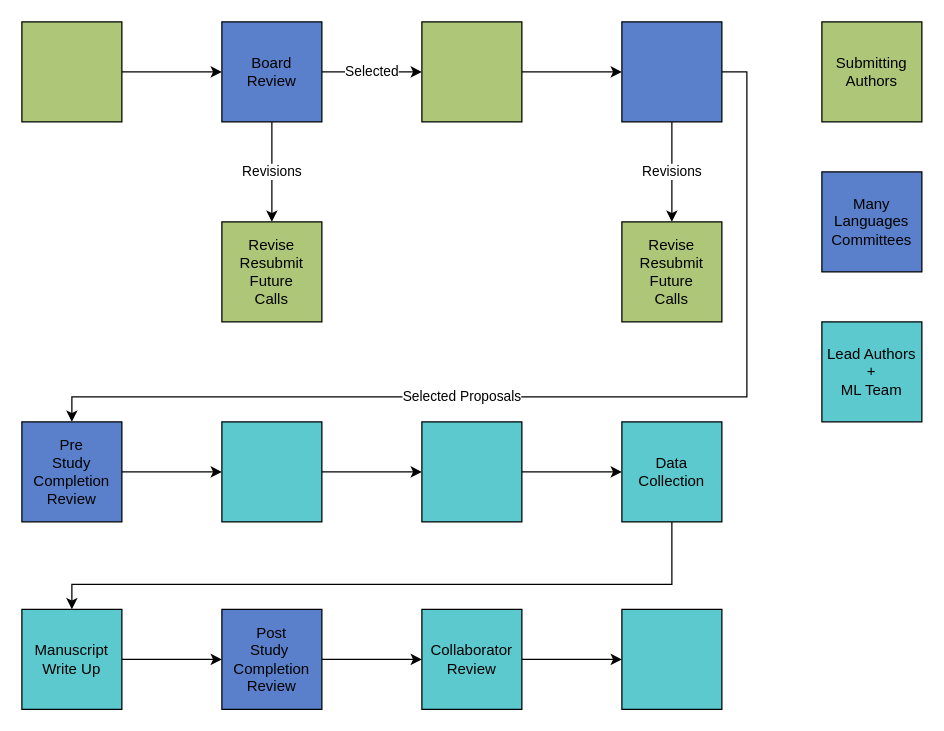
The diagram is 944 pixels wide and 731 high, and some of its shapes have lost their labels. Here are the shapes that lost their labels. From the top down, the centre of each, then its label:
At point 71,71: "Expression of Interest".
At point 471,71: "Full Proposal".
At point 671,71: "Study Selection Team Review".
At point 271,471: "Pre Registration".
At point 471,471: "Recruitment Collaborators".
At point 671,658: "Submission".
